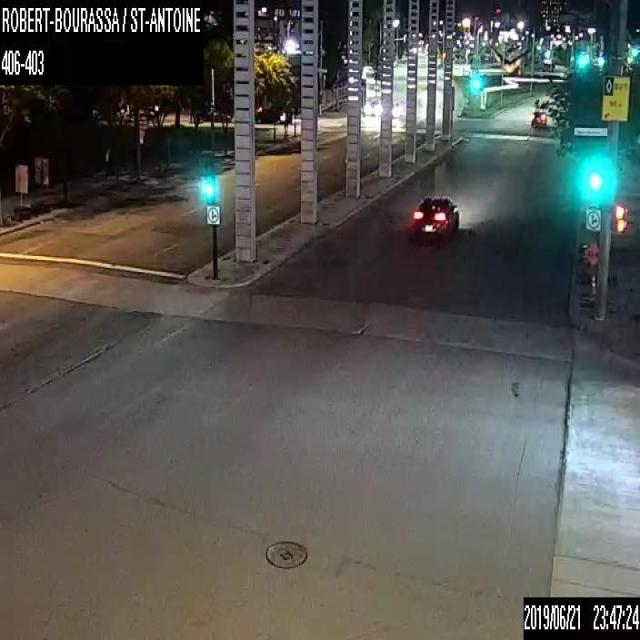construction: (33, 154, 51, 212), (12, 162, 30, 218), (584, 240, 598, 306)
vehicle: (412, 195, 459, 236), (530, 108, 546, 128), (368, 98, 380, 116), (392, 101, 398, 116)
